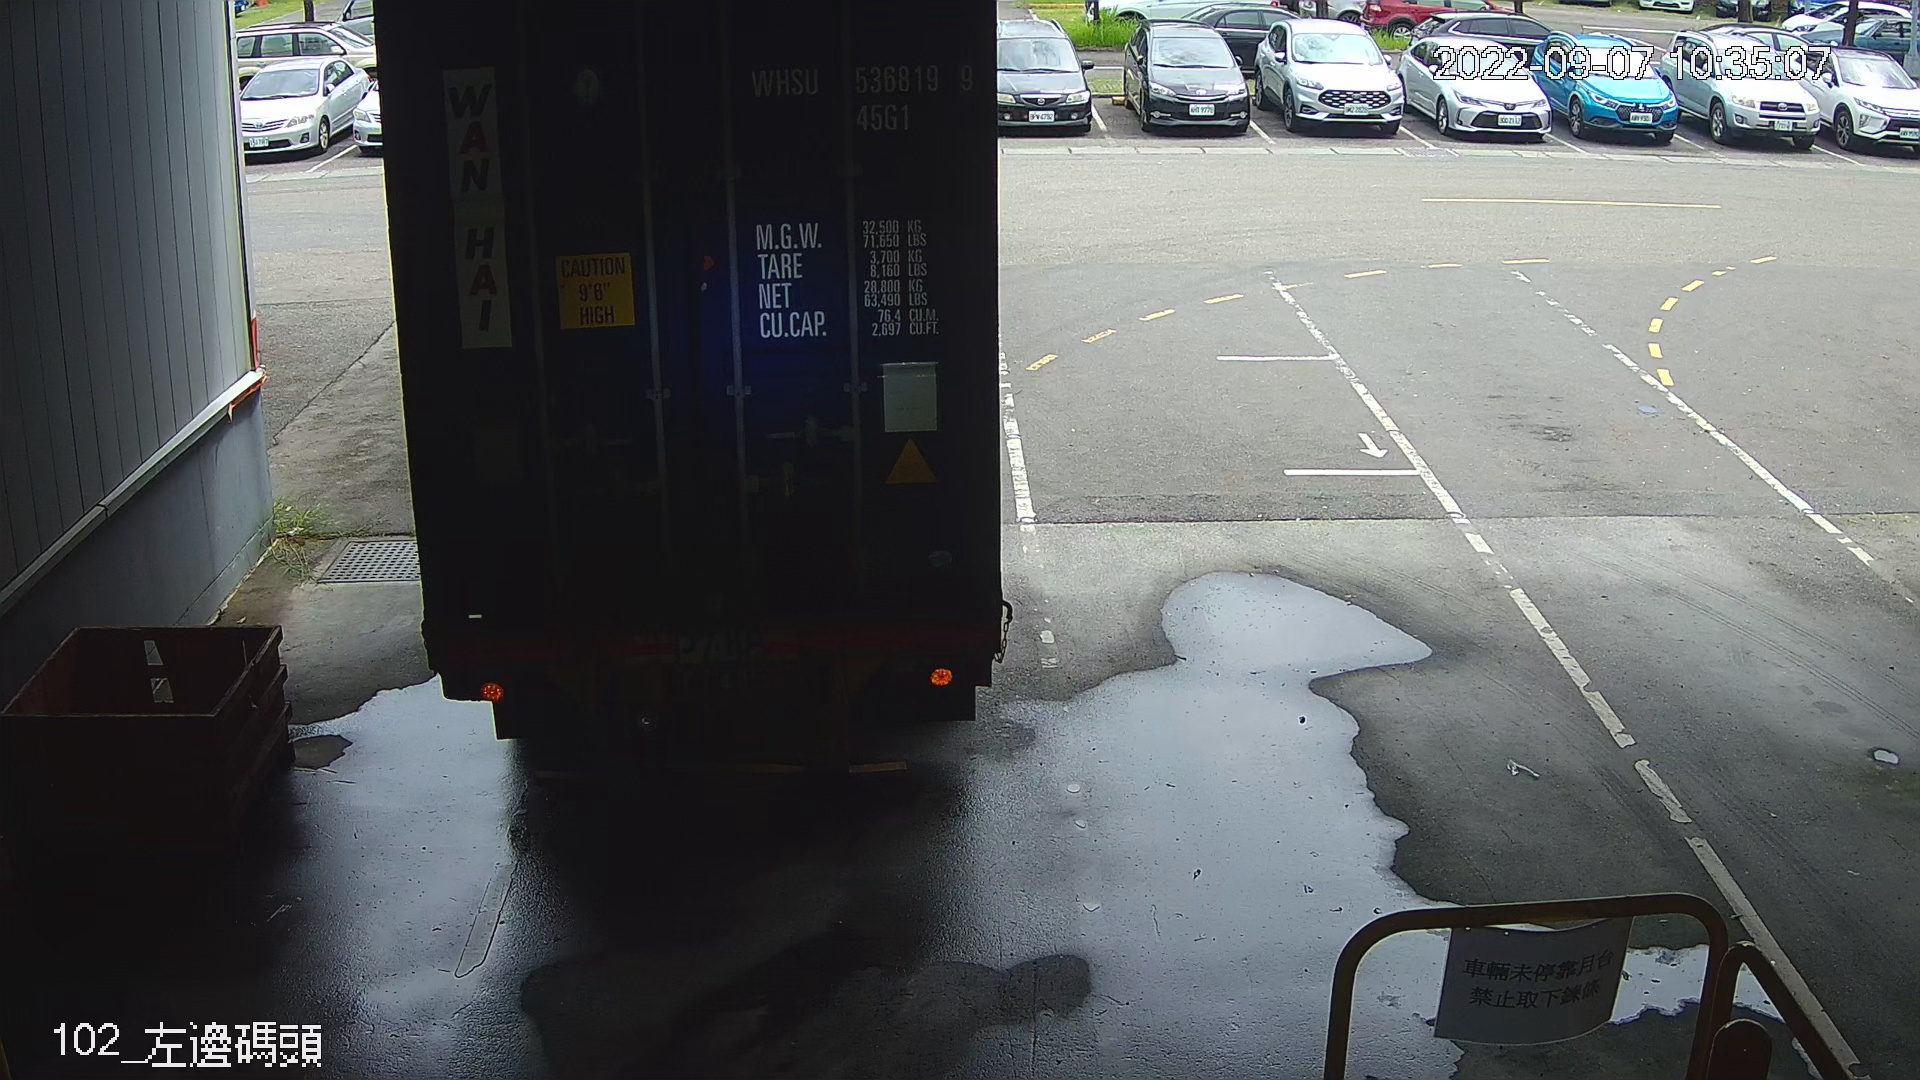container: (741, 49, 985, 138)
